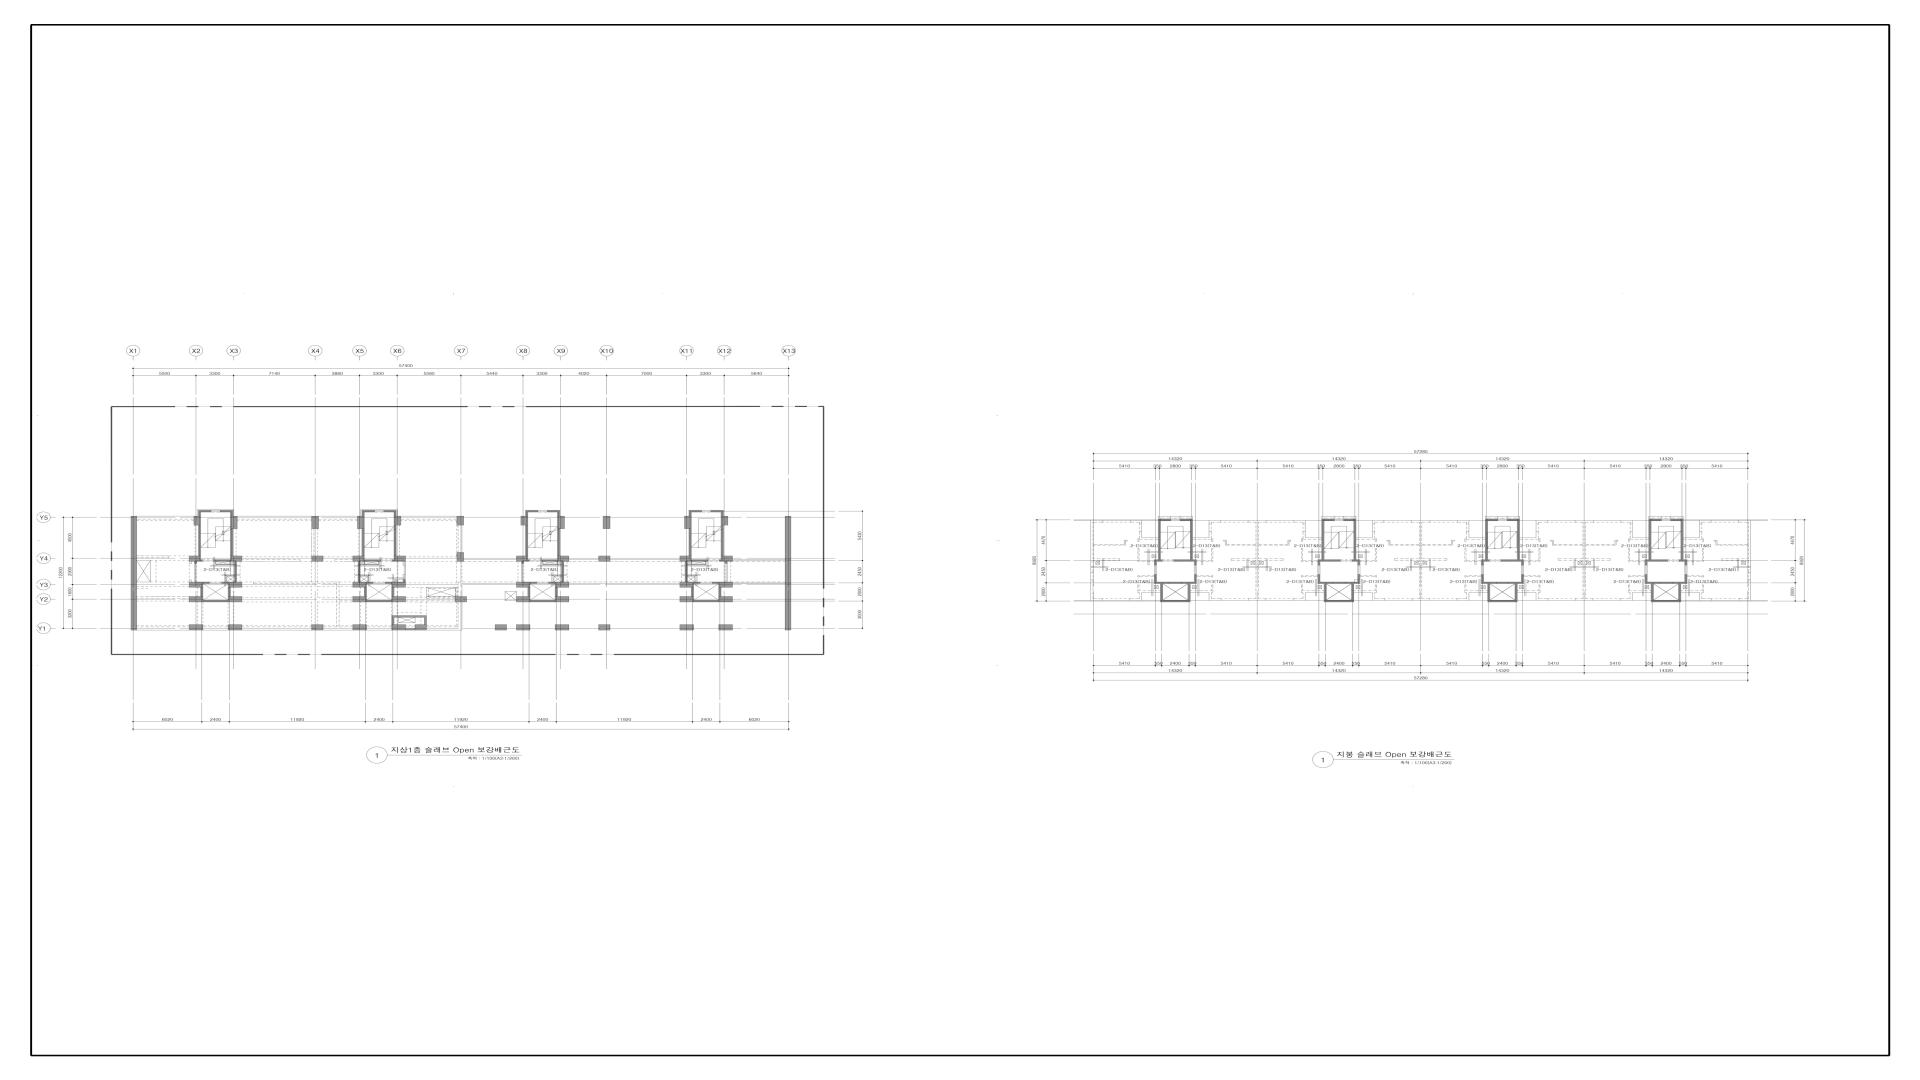wall: (131, 516, 137, 630), (785, 516, 791, 630), (1317, 582, 1361, 584), (1481, 582, 1524, 584), (1644, 582, 1688, 584), (1154, 582, 1196, 584), (1191, 518, 1193, 559), (1158, 518, 1160, 559), (1321, 518, 1324, 559), (1518, 518, 1520, 559), (1485, 518, 1487, 559), (1648, 518, 1651, 559), (1681, 518, 1684, 559), (311, 516, 319, 529), (603, 516, 611, 529), (189, 596, 203, 603), (228, 596, 243, 603), (392, 596, 406, 603), (719, 596, 733, 603), (357, 516, 364, 529), (558, 516, 564, 529), (684, 516, 691, 529), (353, 596, 367, 603), (517, 596, 530, 603), (555, 596, 568, 603), (680, 582, 694, 588), (680, 596, 694, 603), (231, 516, 237, 529), (198, 525, 200, 556), (394, 525, 397, 556), (721, 525, 724, 556), (1160, 600, 1191, 603), (1324, 600, 1354, 603), (1487, 600, 1518, 603), (1651, 600, 1681, 603), (311, 555, 323, 562), (558, 555, 570, 562), (455, 596, 467, 603), (189, 625, 203, 630), (228, 625, 243, 630), (555, 625, 570, 630), (719, 625, 733, 630), (189, 582, 203, 587), (228, 582, 243, 587), (392, 582, 406, 587), (392, 625, 406, 630), (719, 582, 733, 587), (456, 516, 464, 525), (456, 553, 464, 562), (231, 529, 233, 556), (361, 529, 364, 556), (353, 625, 367, 630), (517, 625, 530, 630), (680, 625, 694, 630), (517, 555, 527, 562), (680, 555, 691, 562), (353, 582, 367, 587), (517, 582, 530, 587), (555, 582, 568, 587), (558, 529, 560, 555), (688, 529, 691, 555), (203, 600, 228, 603), (367, 600, 392, 603), (530, 600, 555, 603), (694, 600, 719, 603), (311, 625, 323, 630), (599, 625, 611, 630), (352, 556, 364, 562), (394, 556, 406, 562), (599, 556, 611, 562), (721, 556, 733, 562), (189, 556, 200, 562), (415, 625, 427, 630), (1317, 559, 1341, 562), (1501, 559, 1524, 562), (1644, 559, 1668, 562), (394, 516, 401, 525), (521, 516, 527, 525), (721, 516, 728, 525), (194, 516, 200, 525), (1174, 559, 1196, 562), (496, 625, 506, 630), (231, 556, 241, 562), (1354, 518, 1356, 559), (235, 562, 237, 582), (357, 562, 360, 582), (562, 562, 564, 582), (686, 562, 688, 582), (392, 616, 427, 617), (214, 559, 231, 562), (364, 559, 381, 562), (541, 559, 558, 562), (691, 559, 708, 562), (1160, 584, 1163, 600), (1188, 584, 1191, 600), (1324, 584, 1327, 600), (1352, 584, 1354, 600), (1515, 584, 1518, 600), (1487, 584, 1490, 600), (1651, 584, 1654, 600), (1679, 584, 1681, 600), (526, 525, 527, 555), (1180, 518, 1191, 521), (1160, 518, 1171, 521), (1344, 518, 1354, 521), (1324, 518, 1335, 521), (1507, 518, 1518, 521), (1487, 518, 1498, 521), (1651, 518, 1662, 521), (1671, 518, 1681, 521), (228, 587, 231, 596), (200, 587, 203, 596), (406, 628, 415, 630), (392, 587, 394, 596), (364, 587, 367, 596), (527, 587, 530, 596), (555, 587, 558, 596), (691, 587, 694, 596), (719, 587, 721, 596), (1352, 559, 1361, 562), (1481, 559, 1490, 562), (1679, 559, 1688, 562), (392, 617, 394, 625), (425, 617, 427, 625), (1154, 574, 1156, 582), (1154, 559, 1162, 562), (203, 582, 210, 584), (222, 582, 228, 584), (367, 582, 373, 584), (385, 582, 392, 584), (530, 582, 537, 584), (549, 582, 555, 584), (694, 582, 700, 584), (712, 582, 719, 584), (1317, 575, 1320, 582), (1358, 575, 1361, 582), (1481, 575, 1484, 582), (1522, 575, 1524, 582), (1685, 575, 1688, 582), (1644, 575, 1647, 582), (198, 510, 200, 516), (200, 510, 211, 512), (231, 510, 233, 516), (220, 510, 231, 512), (361, 510, 364, 516), (364, 510, 375, 512), (394, 510, 397, 516), (384, 510, 394, 512), (527, 510, 538, 512), (558, 510, 560, 516), (547, 510, 558, 512), (688, 510, 691, 516), (691, 510, 702, 512), (721, 510, 724, 516), (711, 510, 721, 512), (1195, 574, 1196, 582), (1154, 562, 1156, 566), (1358, 562, 1361, 566), (1317, 562, 1320, 566), (1522, 562, 1524, 566), (1481, 562, 1484, 566), (1644, 562, 1647, 566), (1685, 562, 1688, 566), (200, 559, 203, 562), (392, 559, 394, 562), (527, 559, 530, 562), (526, 510, 527, 516), (1195, 562, 1196, 566), (194, 562, 196, 563), (404, 580, 406, 582), (521, 562, 524, 563), (720, 559, 721, 562), (725, 562, 728, 563)
